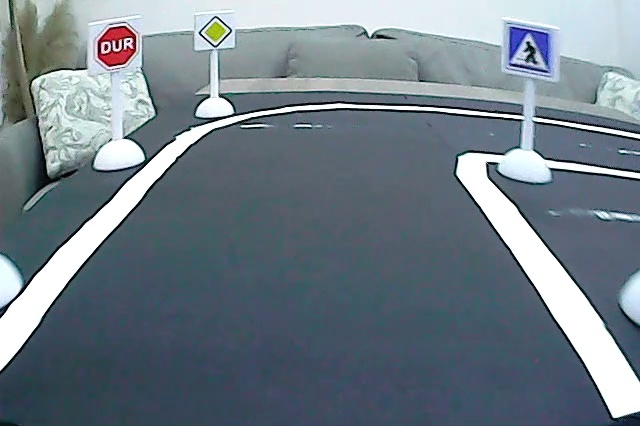pedestrian crossing: (504, 22, 554, 79)
stop sign: (94, 20, 141, 70)
